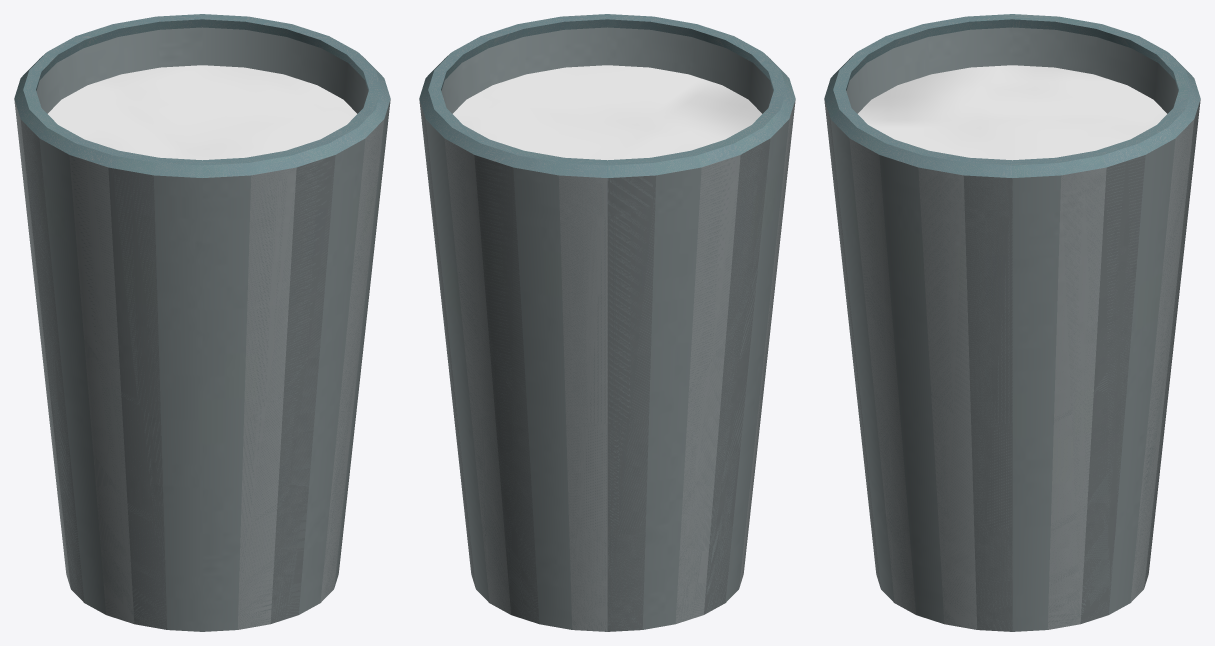
3 views of the same model, side by side, from view 1: azimuth 30°, elevation 25°; view 2: azimuth 150°, elevation 25°; view 3: azimuth 270°, elevation 25° (orthographic).
Visible parts, largest first — view 1: Glass (×14), Juice; view 2: Glass (×15), Juice; view 3: Glass (×15), Juice.
Boxes of the visible parts, <box> form: Glass (×14): <box>14,14,390,631</box>; Juice: <box>48,65,356,160</box>; Glass (×15): <box>419,14,795,631</box>; Juice: <box>453,65,761,160</box>; Glass (×15): <box>824,14,1200,631</box>; Juice: <box>858,65,1166,160</box>.
Size of the model in its own units: 4.83 by 4.83 by 6.86.
Materials: 5 (5 with a texture image).
